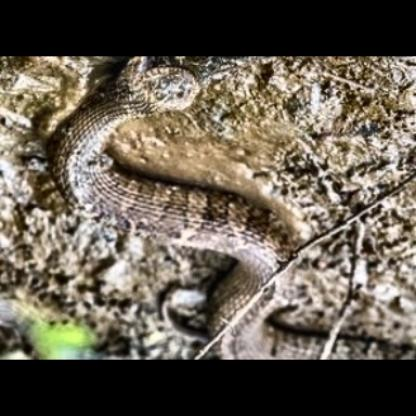Snake: (54, 57, 307, 352)
